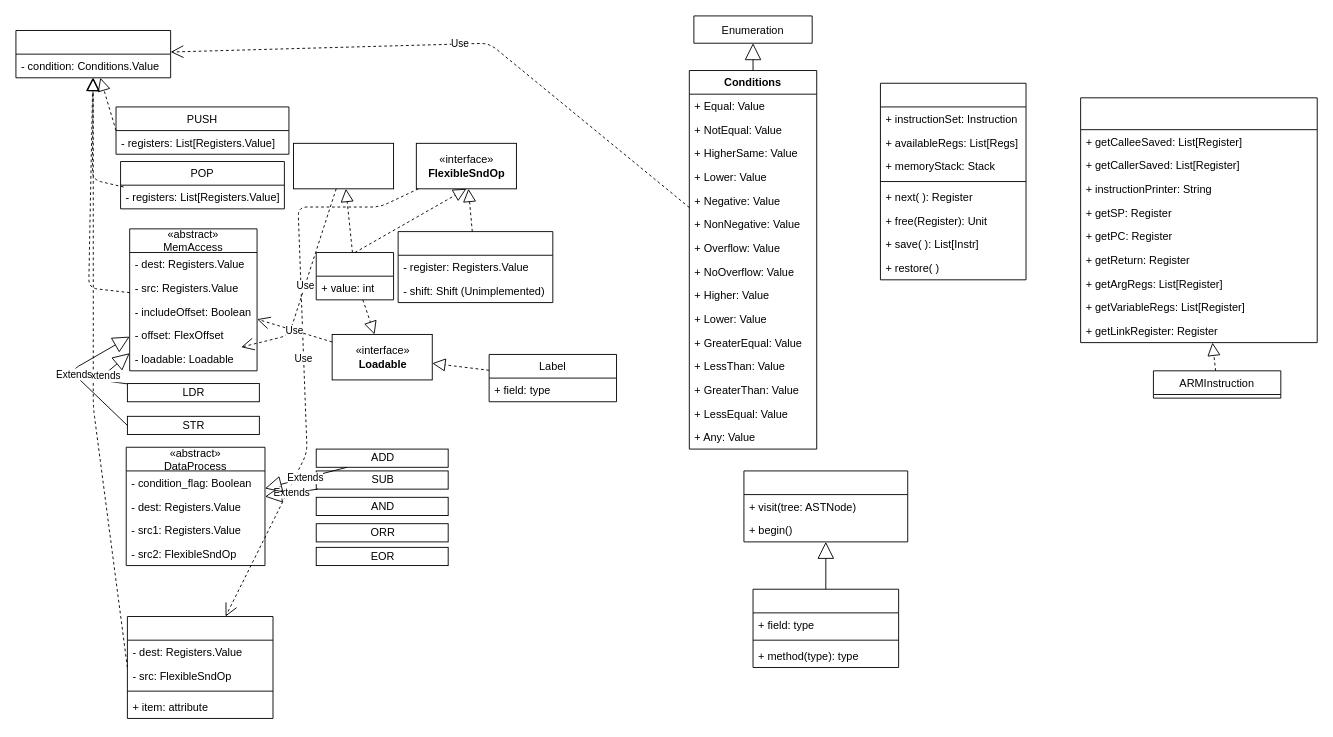
Image size: 1333x737. Some labels were removed from this diagram. Each missing label, with the box of its shape:
CodeGenVisitor: (752, 588, 899, 667)
Immediate: (315, 252, 394, 300)
MOV: (126, 616, 273, 718)
RegisterManager: (880, 82, 1026, 280)
ShiftedRegister: (397, 231, 553, 303)
Visitor(entryNode: ASTNode): (743, 470, 908, 542)
«abstract» Instruction: (15, 30, 171, 78)
«interface» FlexOffset: (293, 142, 394, 189)
«interface» Instruction: (1080, 97, 1317, 343)
